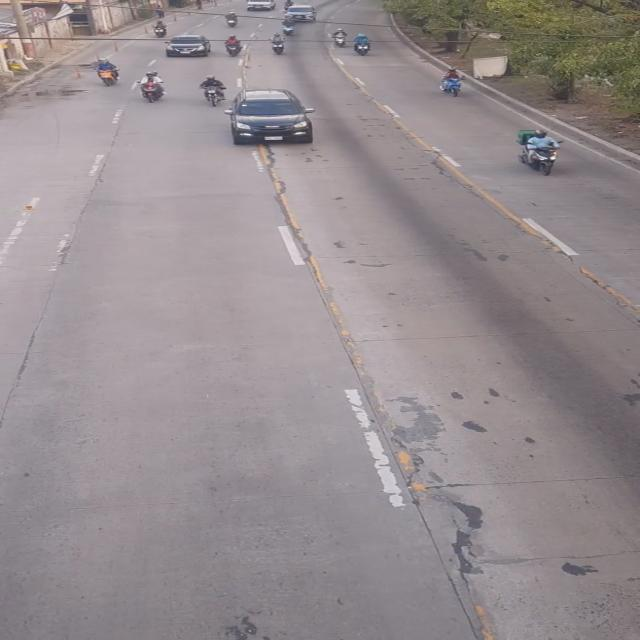car: (232, 88, 317, 148), (163, 30, 210, 56)
motorbike: (520, 128, 558, 176), (142, 63, 165, 106), (438, 68, 472, 96), (202, 72, 226, 110), (95, 58, 122, 86)
